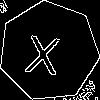X: (24, 26, 63, 76)
